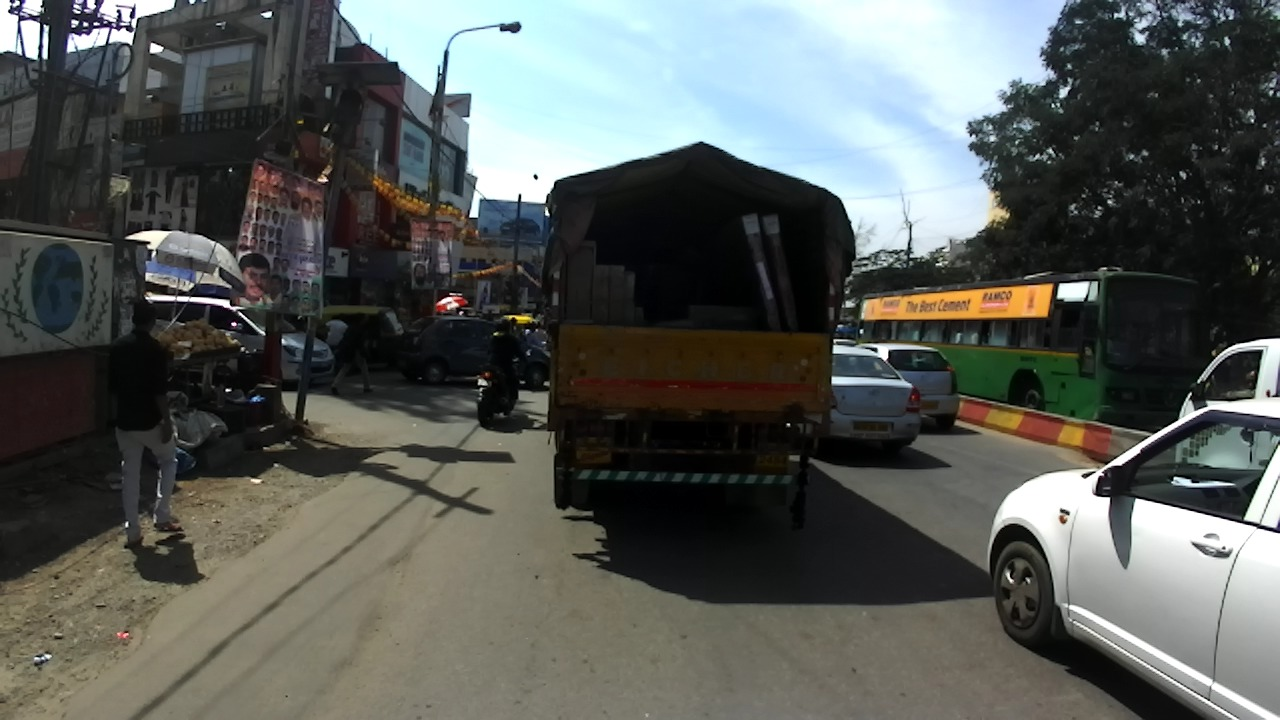autorickshaw: (309, 304, 407, 369), (502, 314, 537, 340)
bus: (860, 268, 1212, 429)
car: (984, 396, 1280, 720), (144, 295, 335, 390), (397, 315, 552, 391), (825, 343, 921, 454), (853, 342, 960, 431), (830, 338, 858, 347)
motorcycle: (475, 349, 530, 428)
person: (113, 299, 180, 548), (331, 309, 374, 397), (320, 311, 348, 353)
rider: (488, 315, 526, 407), (518, 319, 541, 349), (507, 317, 526, 341), (535, 319, 548, 345)
truck: (543, 142, 856, 531), (1177, 338, 1280, 434)
vehicle fallback: (835, 317, 861, 345)
